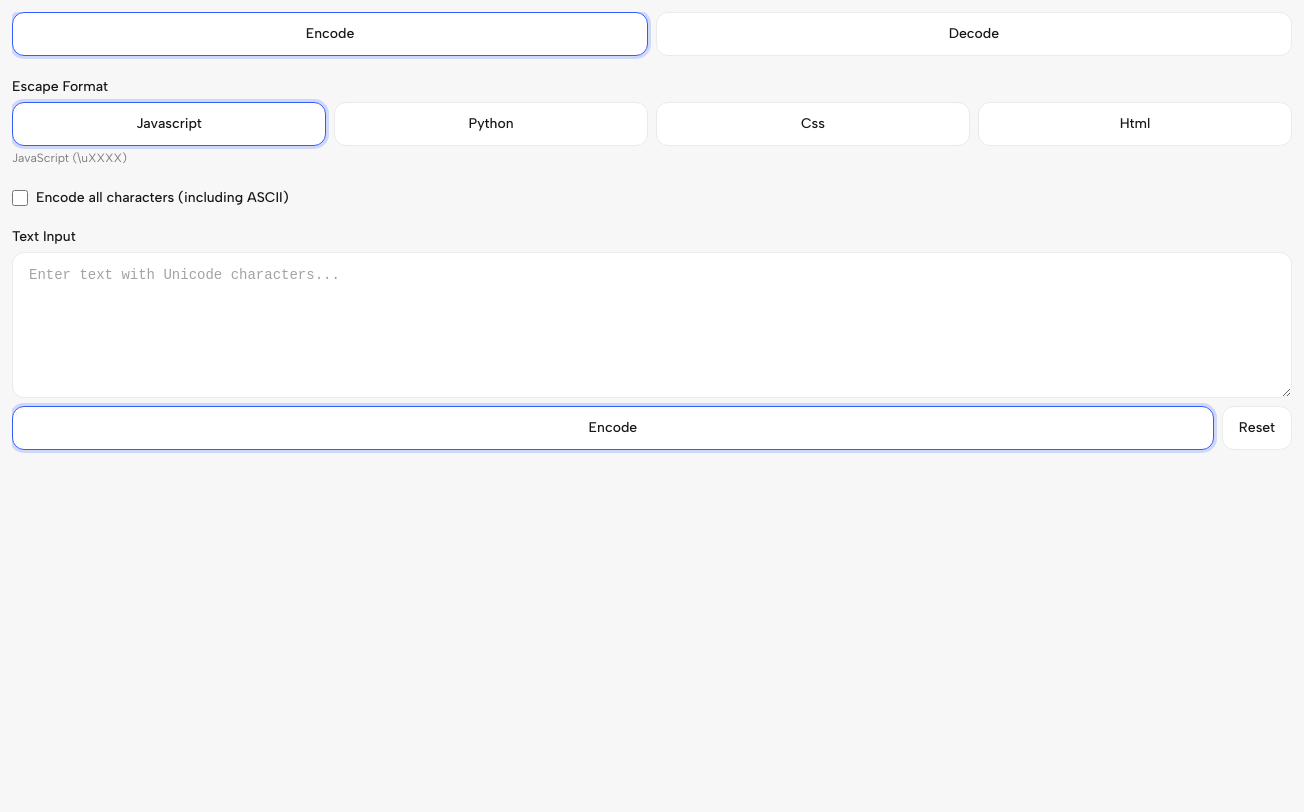
Test: UnicodeEscapeTool › encodes text to JavaScript Unicode escape
This screenshot has width=1304, height=812.
Type "cafe" into the text box with placeholder "Enter text with Unicode characters..." at [652, 325], box 12,252 -> 1292,398
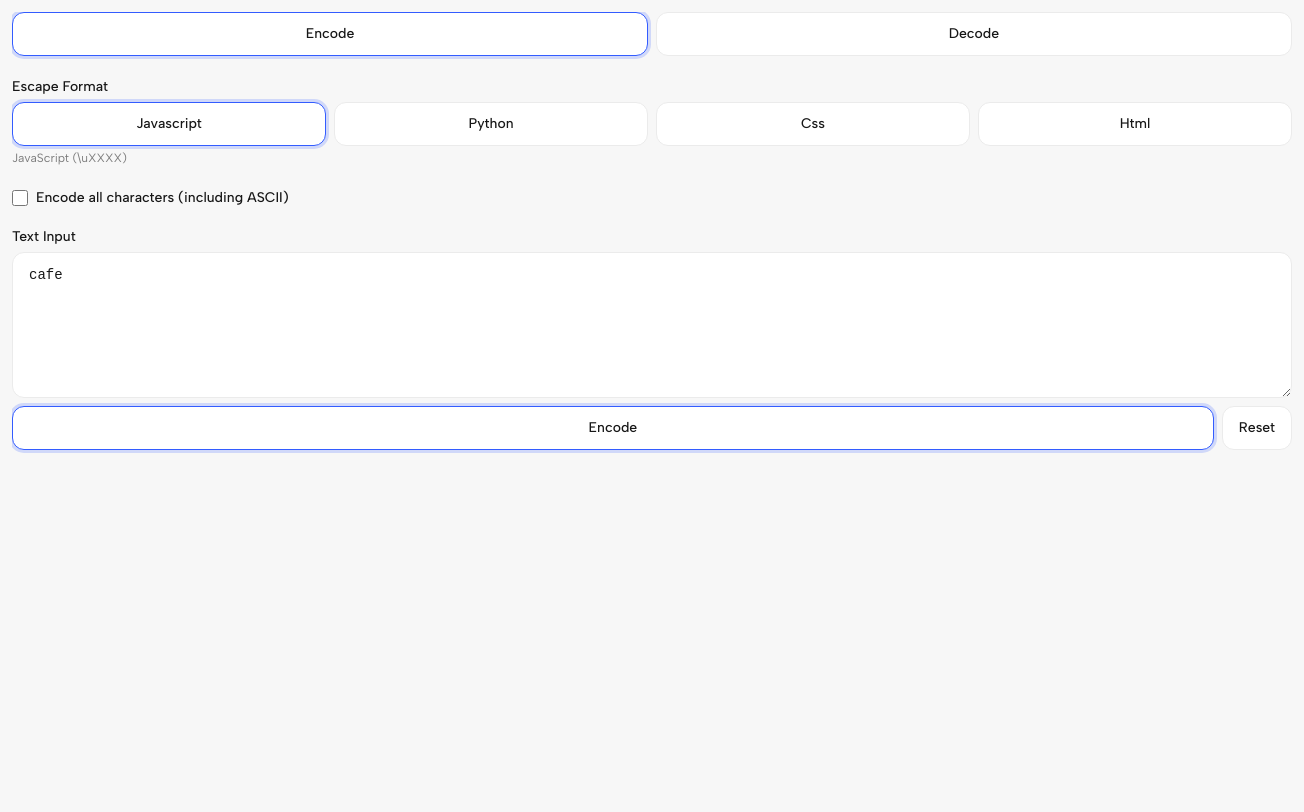
Click the button "Encode" below "Text Input" at [613, 428], box 12,406 -> 1214,450
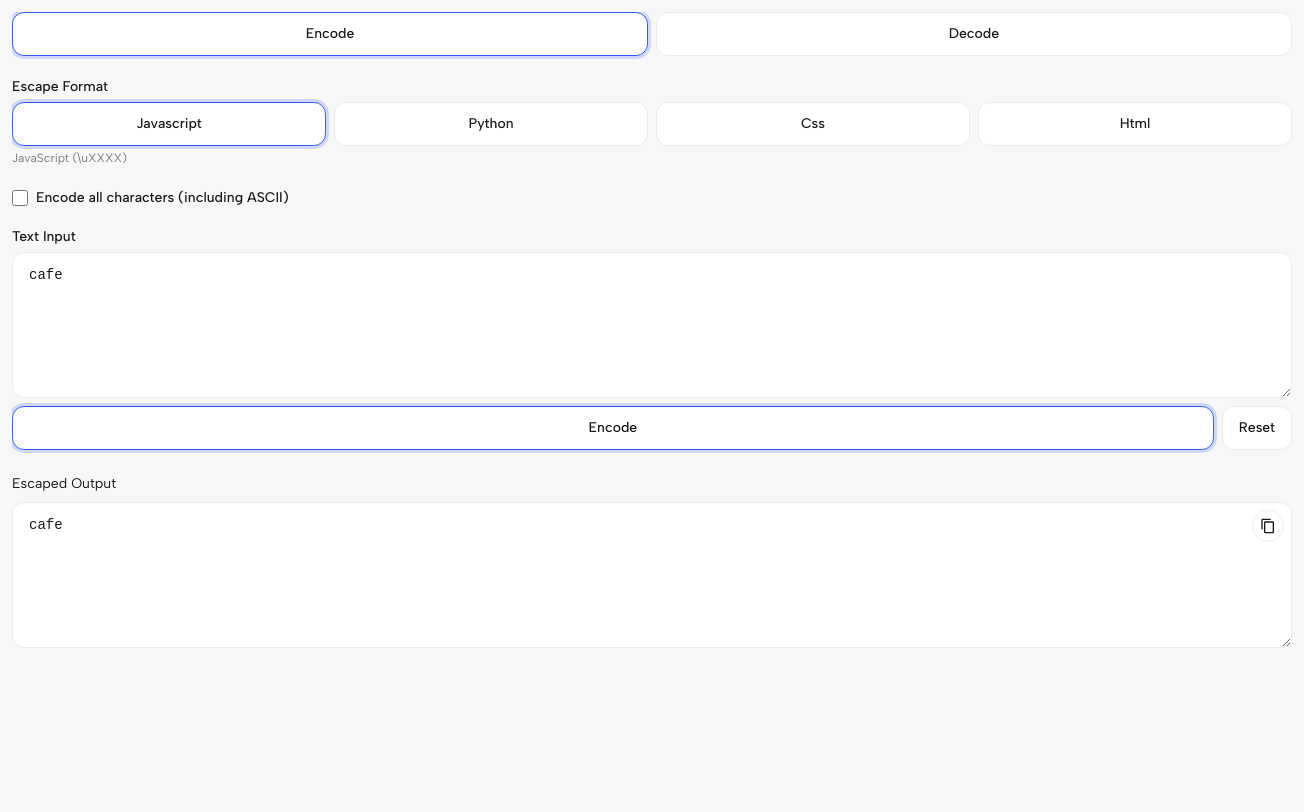
Expected: the text "Escaped Output" is shown, 12,475 -> 116,492
